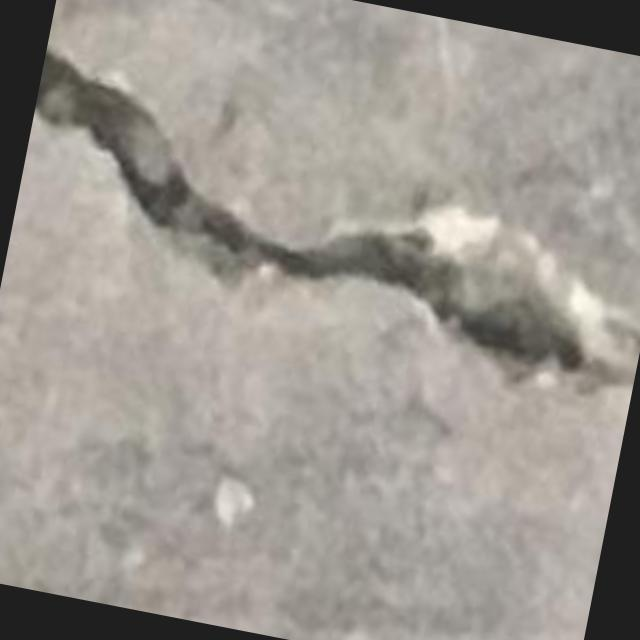crack: (35, 55, 639, 393)
